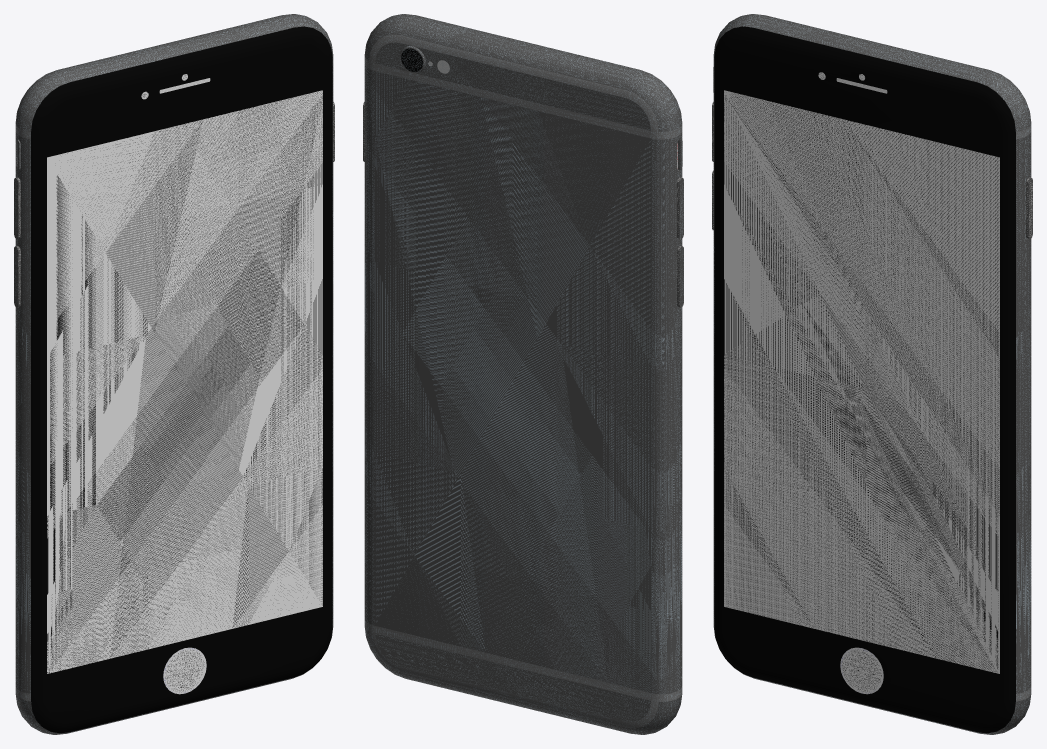
3 renders of one model, left to right at view 1: azimuth 30°, elevation 25°; view 2: azimuth 150°, elevation 25°; view 3: azimuth 330°, elevation 25°, orthographic.
Parts seen in each view (by area): view 1: SketchUp (×6); view 2: SketchUp (×7); view 3: SketchUp (×6).
Part boxes in pixels (x1=…): SketchUp (×6): x1=14, y1=14, x2=334, y2=734; SketchUp (×7): x1=363, y1=14, x2=683, y2=734; SketchUp (×6): x1=712, y1=14, x2=1032, y2=734.
Size of the model in its own units: 2.73 by 0.3281 by 5.44.
